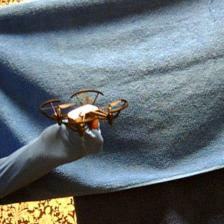drone: (35, 86, 130, 136)
